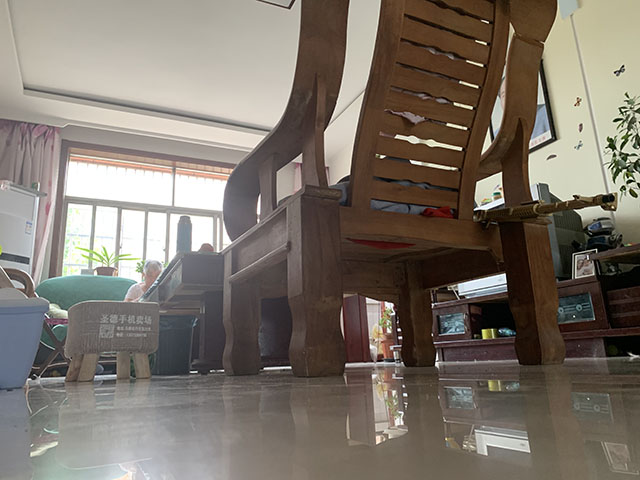cabinet: (390, 243, 640, 363)
sofa: (219, 1, 559, 379)
stool: (63, 299, 162, 385), (31, 313, 70, 381)
trashcan: (1, 287, 51, 392)
